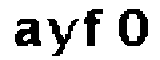0: (118, 6, 149, 50)
a: (9, 15, 44, 49)
f: (82, 5, 109, 51)
y: (45, 14, 81, 60)
